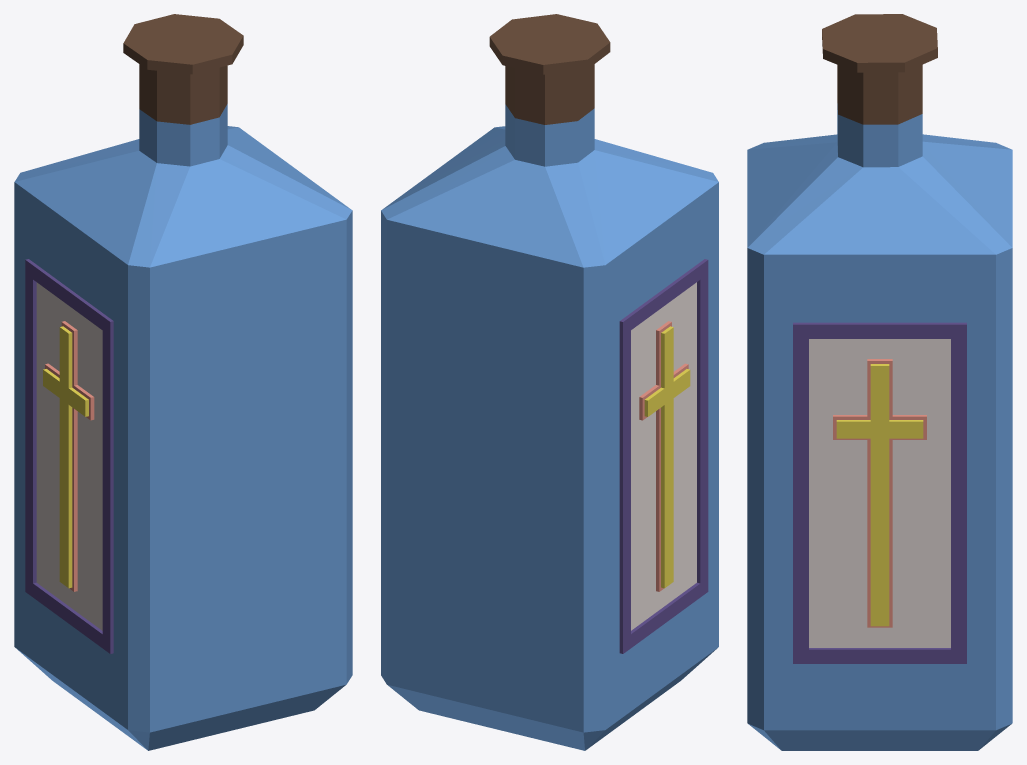
The model's file is coleccionable-bueno2-agua_bendita.fbx.
3 renders of one model, left to right at view 1: azimuth 30°, elevation 25°; view 2: azimuth 150°, elevation 25°; view 3: azimuth 270°, elevation 25°, orthographic. The views are drawn at different scales.
Visible parts, largest first — view 1: Model; view 2: Model; view 3: Model.
Boxes of the visible parts, left/top/right/bottom form: Model: left=14, top=14, right=352, bottom=750; Model: left=381, top=14, right=718, bottom=750; Model: left=747, top=14, right=1012, bottom=750.
Size of the model in its own units: 43.02 by 113 by 40.5.
